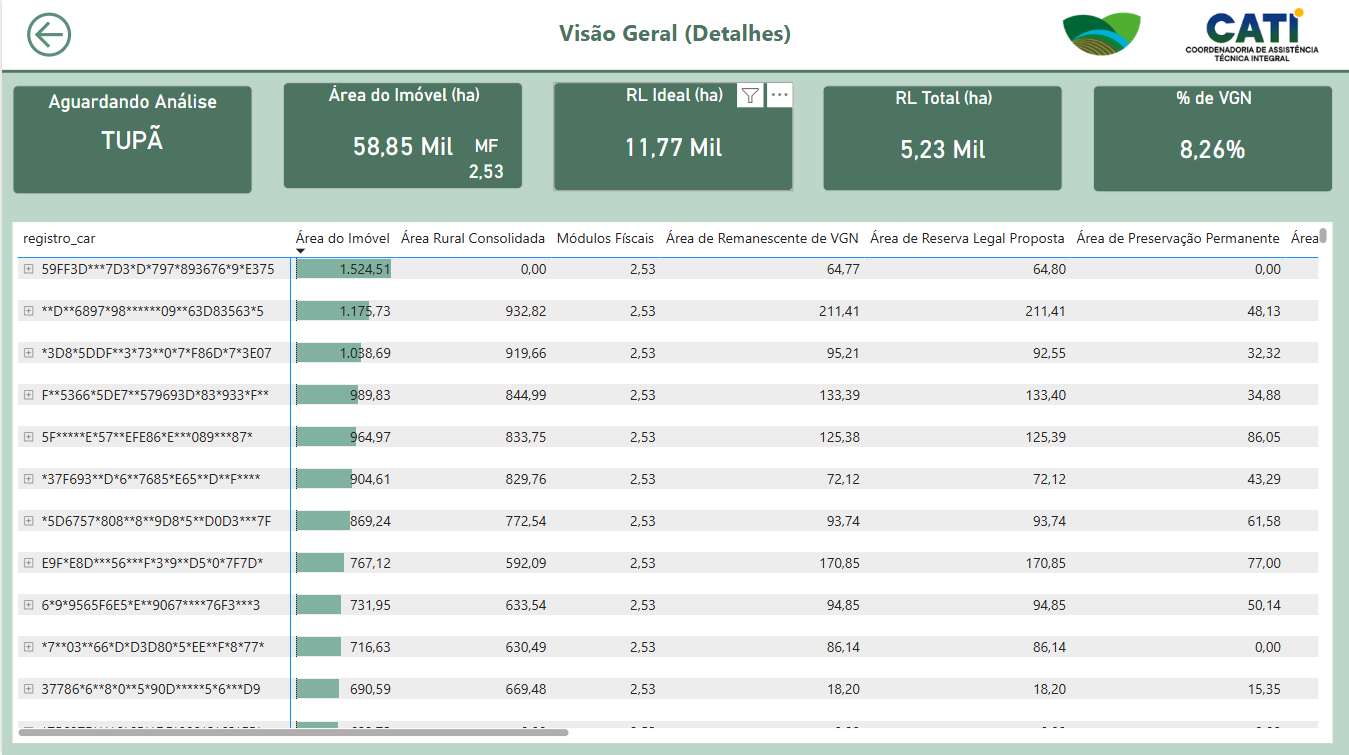

The page's visual inventory and layout, read from the dashboard file:
{"tool":"powerbi","page":{"name":"Visão Geral(Detalhamento)","canvas":[1280,720],"ordinal":3},"visuals":[{"type":"pivotTable","fields":{"Rows":["Temas Ambientais.registro_car","Temas Ambientais.condicao_cadastro"],"Values":["Sum(Temas Ambientais.area_do_imovel)","Sum(Temas Ambientais.area_rural_consolidada)","medidas.MF","Sum(Temas Ambientais.area_remanescente_vegetacao_nativa)","Sum(Temas Ambientais.area_reserva_legal_proposta)","Sum(Temas Ambientais.area_preservacao_permanente)","Sum(Temas Ambientais.area_nao_classificada)","Sum(Temas Ambientais.area_pousio)","Sum(Temas Ambientais.area_reserva_legal_aprovada_nao_averbada)","Sum(Temas Ambientais.area_reserva_legal_averbada)","Sum(Temas Ambientais.area_servidao_administrativa)","Sum(Temas Ambientais.area_uso_restrito)"]},"box":[10.2,213.1,1254.8,495.4],"z":0},{"type":"card","title":"Município ","fields":{"Values":["Min(Temas Ambientais.municipio)"]},"box":[10.2,82.7,227.8,104.3],"z":1000},{"type":"card","title":"Área do Imóvel (ha)","fields":{"Values":["Sum(Temas Ambientais.area_do_imovel)"]},"box":[266.9,80.5,227.8,102],"z":2000},{"type":"card","title":"% de VGN","fields":{"Values":["medidas.Percentual area com vegetaçao nativa"]},"box":[1037.2,82.7,227.8,102],"z":3000},{"type":"actionButton","box":[18,7.6,57.6,54.8],"z":4000},{"type":"card","fields":{"Values":["Min(Temas Ambientais.Condição do Cadastro)"]},"box":[18.1,82.7,213.1,31.7],"z":5000},{"type":"card","title":"RL Ideal (ha)","fields":{"Values":["medidas.RL Ideal"]},"box":[523.7,80.5,227.8,103.2],"z":6000},{"type":"card","title":"RL Total (ha)","fields":{"Values":["medidas.Total RL"]},"box":[780.4,82.7,227.8,100.9],"z":7000},{"type":"textbox","box":[480,13.1,319.9,43.5],"z":8000},{"type":"card","title":"MF","fields":{"Values":["medidas.Módeulos Físcais"]},"box":[415.4,131.1,90.5,49.9],"z":9000}]}

Visuals, with their boxes in screenshot pixels (x1, y1, x2, y2), scaled from the page's 1280x720 canvas onto the 1349x755 screenshot:
pivotTable - Temas Ambientais.registro_car x Temas Ambientais.condicao_cadastro: box=[11, 223, 1333, 743]
"Município " card: box=[11, 87, 251, 196]
"Área do Imóvel (ha)" card: box=[281, 84, 521, 191]
"% de VGN" card: box=[1093, 87, 1333, 194]
actionButton: box=[19, 8, 80, 65]
card - Min(Temas Ambientais.Condição do Cadastro): box=[19, 87, 244, 120]
"RL Ideal (ha)" card: box=[552, 84, 792, 193]
"RL Total (ha)" card: box=[822, 87, 1063, 193]
textbox: box=[506, 14, 843, 59]
"MF" card: box=[438, 137, 533, 190]
